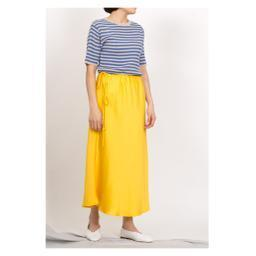Tshirt: (84, 18, 148, 76)
skirt: (82, 72, 150, 218)
